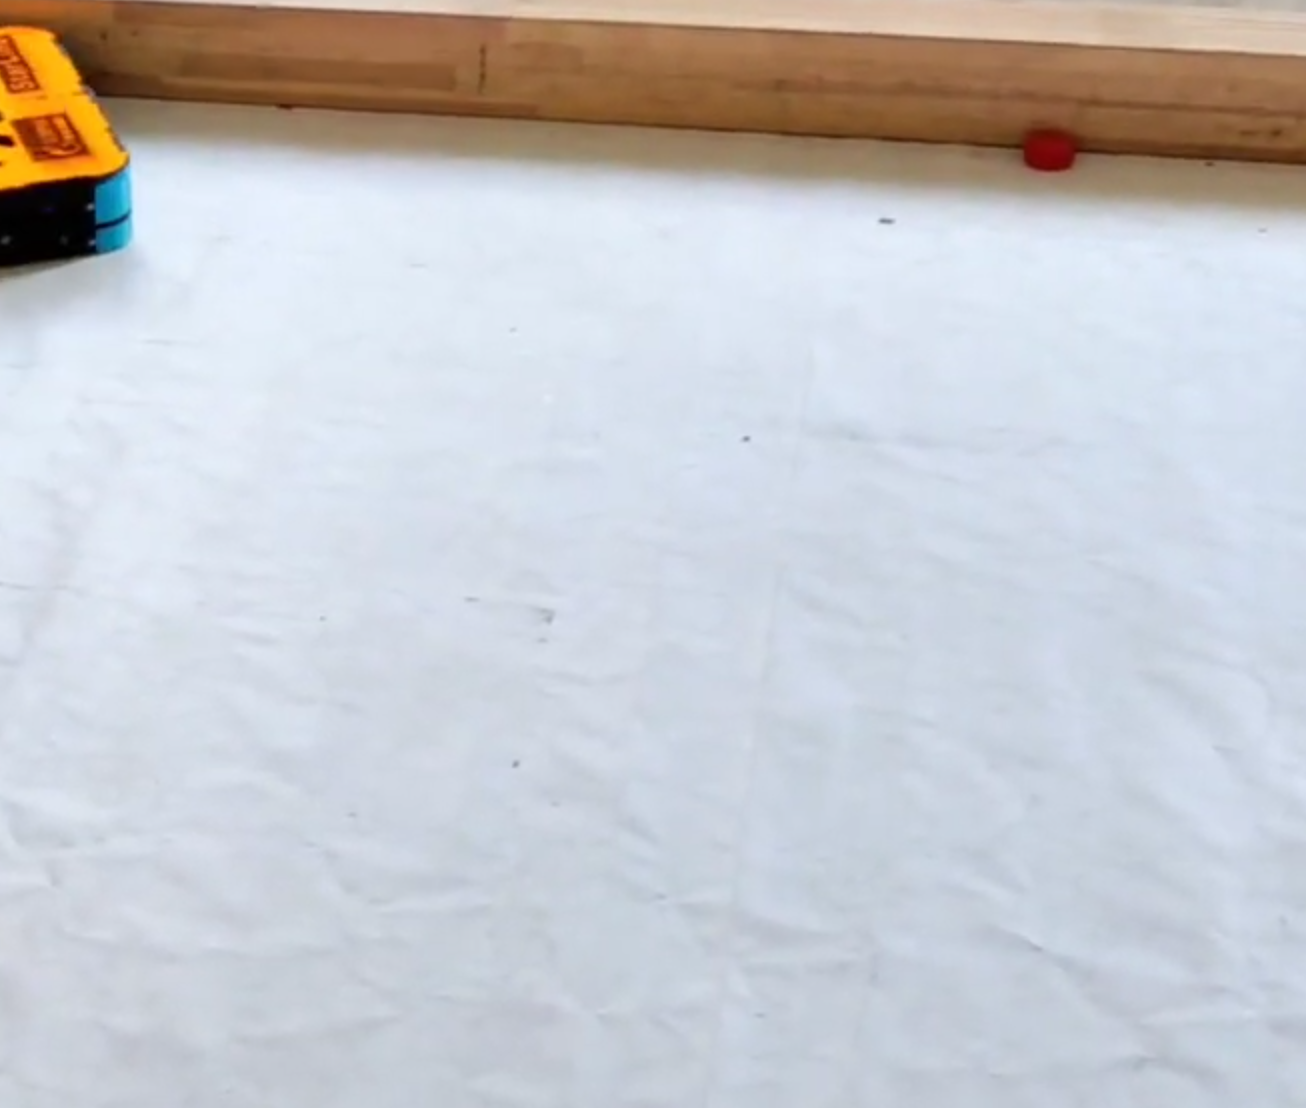puck: (1023, 131, 1081, 170)
